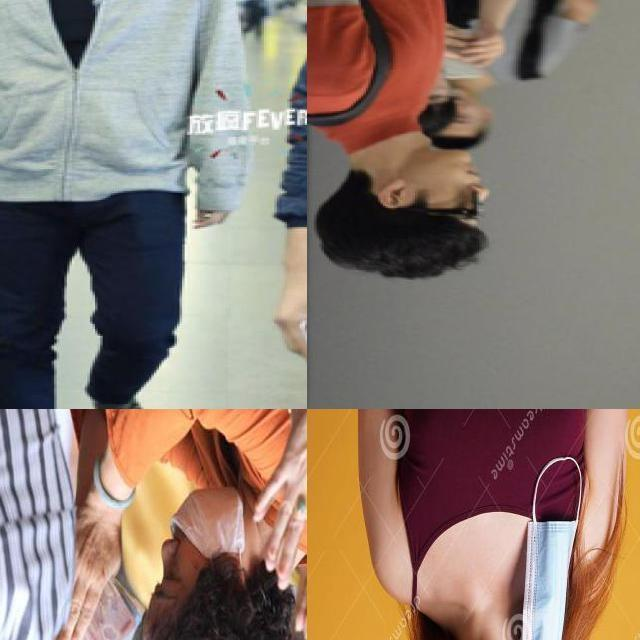hairnet: (156, 486, 242, 582)
